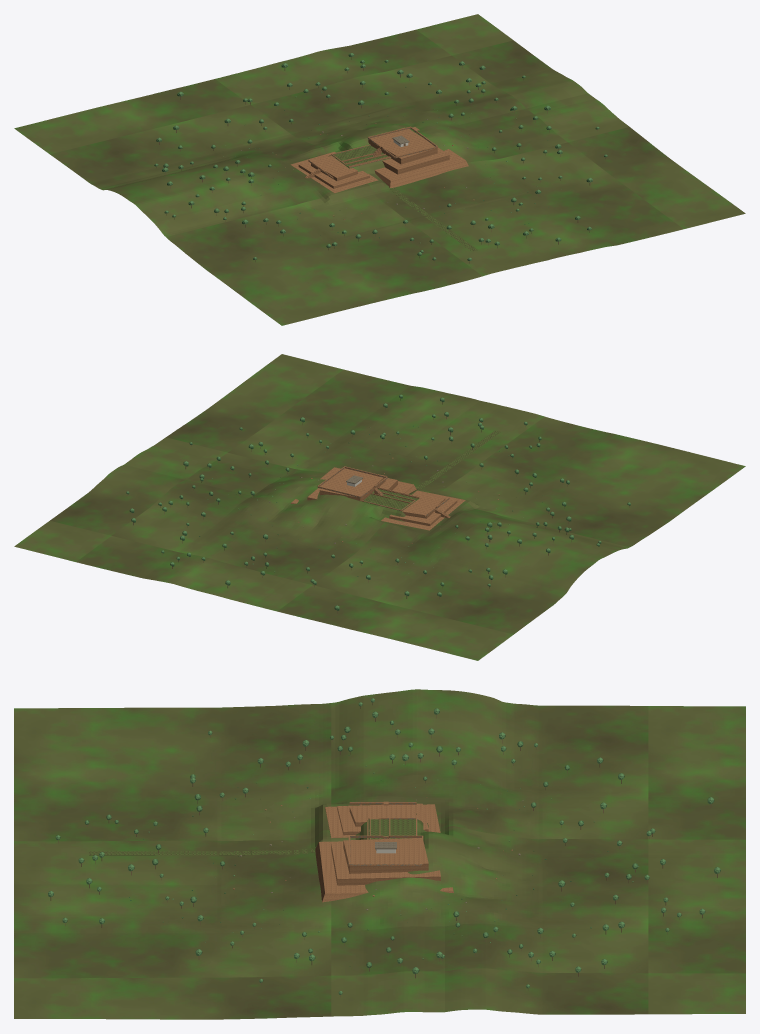
3 renders of one model, top to bottom at view 1: azimuth 30°, elevation 25°; view 2: azimuth 150°, elevation 25°; view 3: azimuth 270°, elevation 25°, orthographic. The views are drawn at different scales.
Visible parts, largest first — view 1: GEO-Narihuala_LOD0_Terrain, GEO-Narihuala_LOD0_City, GEO-Narihuala_LOD0_Props; view 2: GEO-Narihuala_LOD0_Terrain, GEO-Narihuala_LOD0_City, GEO-Narihuala_LOD0_Props; view 3: GEO-Narihuala_LOD0_Terrain, GEO-Narihuala_LOD0_City, GEO-Narihuala_LOD0_Props.
Part boxes in pixels (x1,y1,x2,y2): GEO-Narihuala_LOD0_Terrain: [14, 14, 745, 325]; GEO-Narihuala_LOD0_City: [290, 126, 468, 193]; GEO-Narihuala_LOD0_Props: [154, 53, 607, 263]; GEO-Narihuala_LOD0_Terrain: [14, 354, 745, 660]; GEO-Narihuala_LOD0_City: [291, 466, 465, 530]; GEO-Narihuala_LOD0_Props: [126, 394, 630, 613]; GEO-Narihuala_LOD0_Terrain: [14, 689, 745, 1019]; GEO-Narihuala_LOD0_City: [315, 801, 453, 902]; GEO-Narihuala_LOD0_Props: [48, 698, 720, 996].
Bounding box in the file's own units: 600 × 49 × 600.
Materials: 7 (3 with a texture image).
